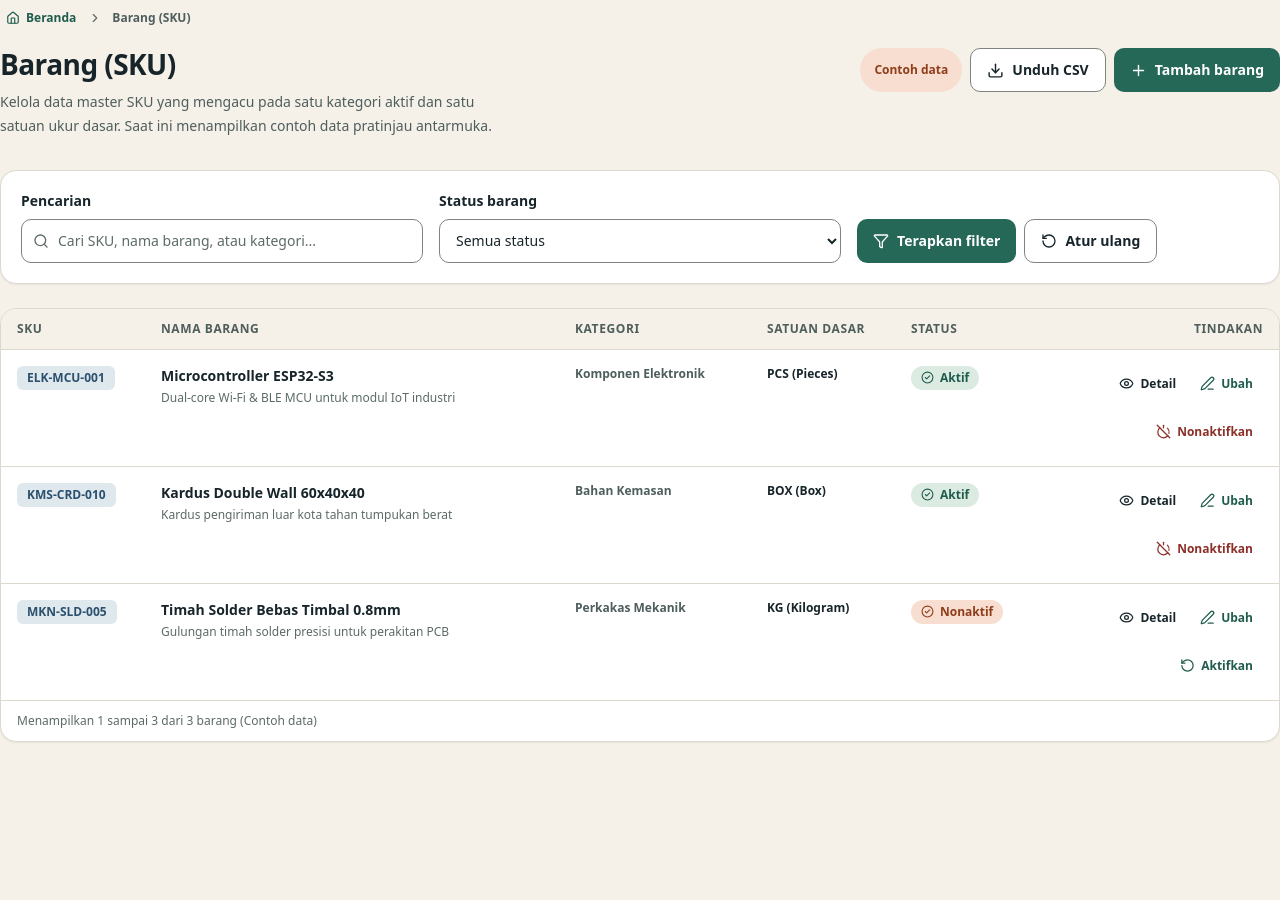
Scenario: StocksPage (Contoh data pratinjau Barang SKU) › merender contoh data barang SKU, mendukung detail, tambah, dan filter
The width and height of the screenshot is (1280, 900).
Check: the text "Contoh data" is shown, box [860,48,962,92]
Check: the text "Microcontroller ESP32-S3" is shown, box [161,366,334,385]
Click the button named "Lihat detail barang Microcontroller ESP32-S3" at point(1148, 384), box [1109,362,1186,406]
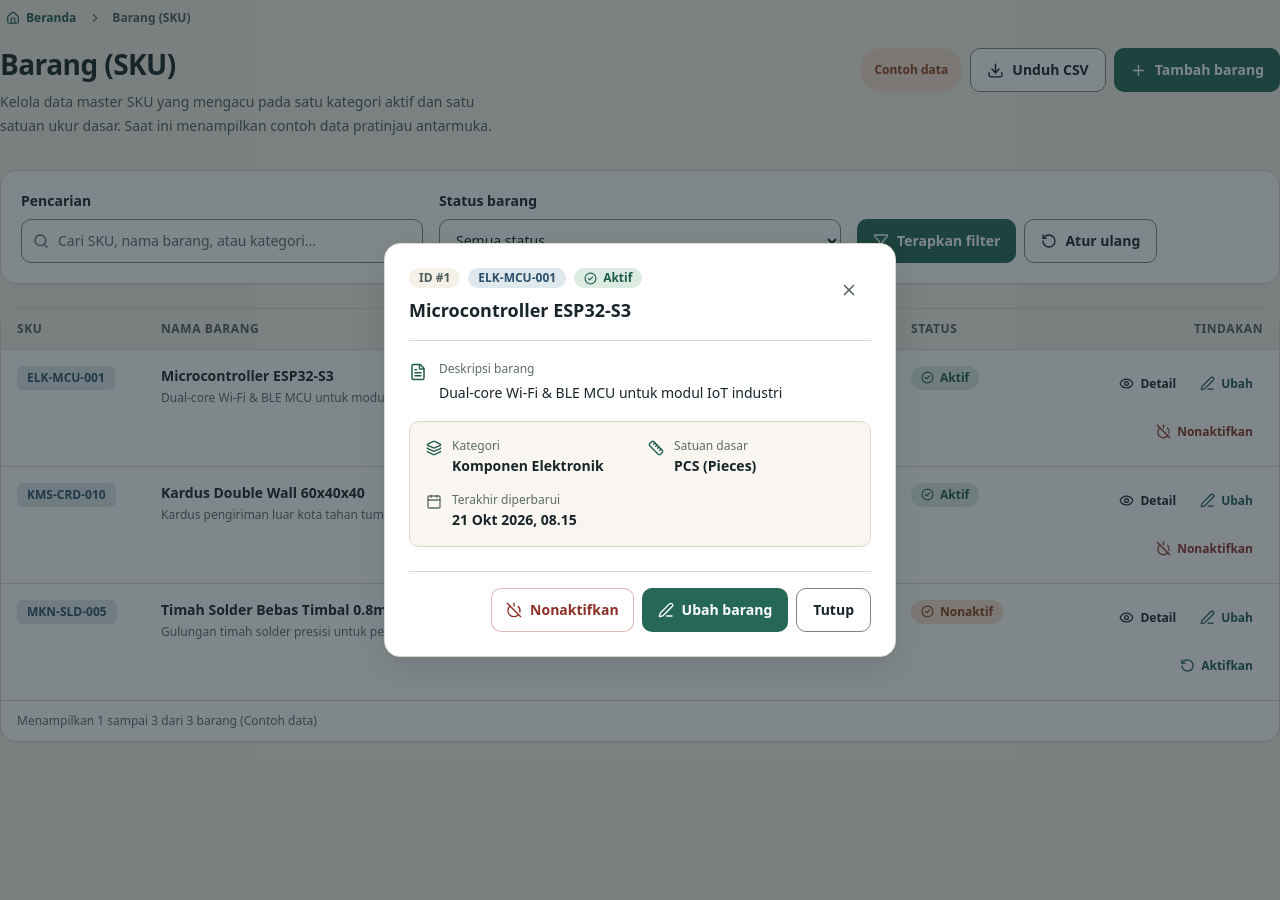
Check: the dialog "Microcontroller ESP32-S3" is shown, box [384,243,896,657]
Click the button named "Tutup detail barang" at point(849, 290), box [827,268,871,312]
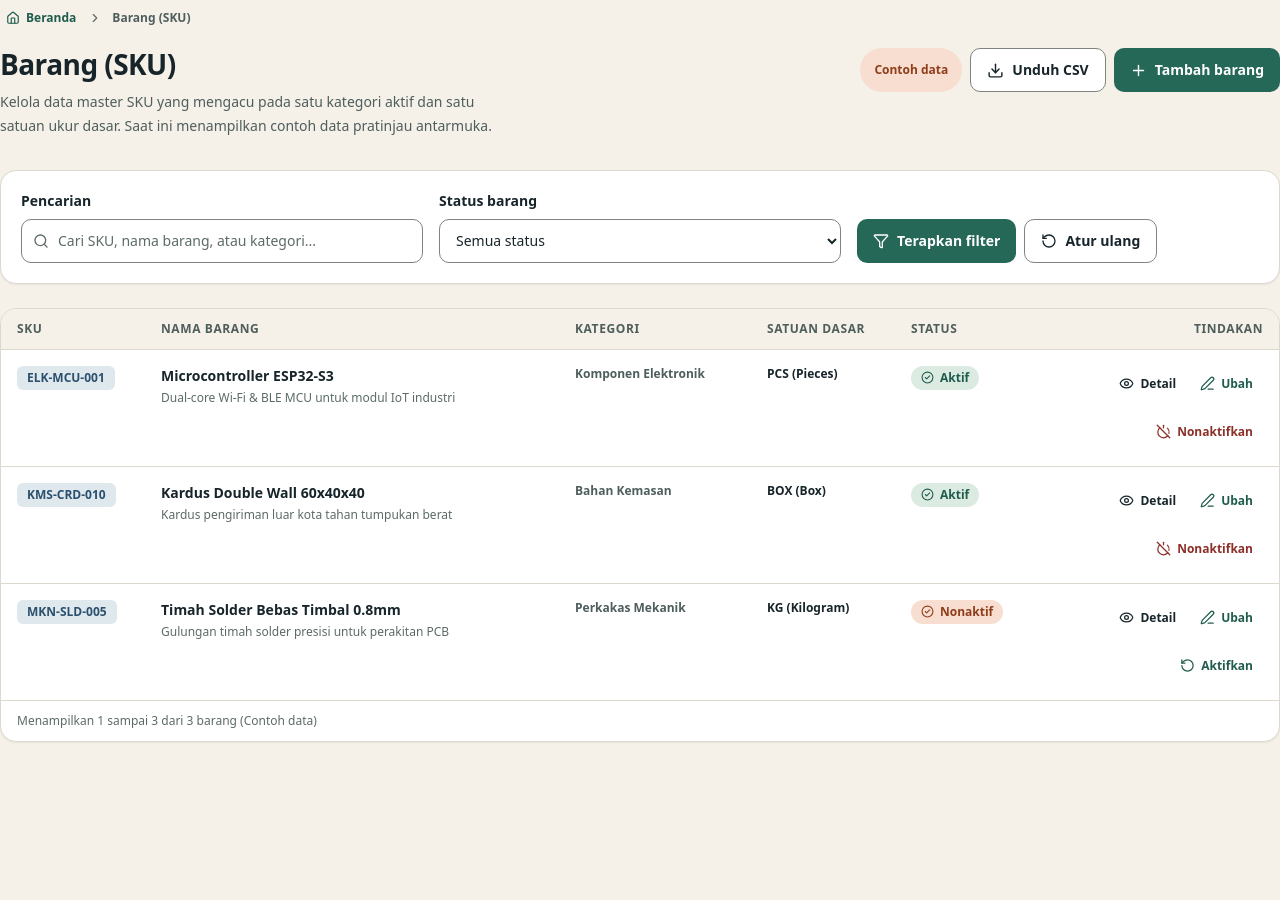
Click the button "Tambah barang" at point(1197, 70), box [1114,48,1279,92]
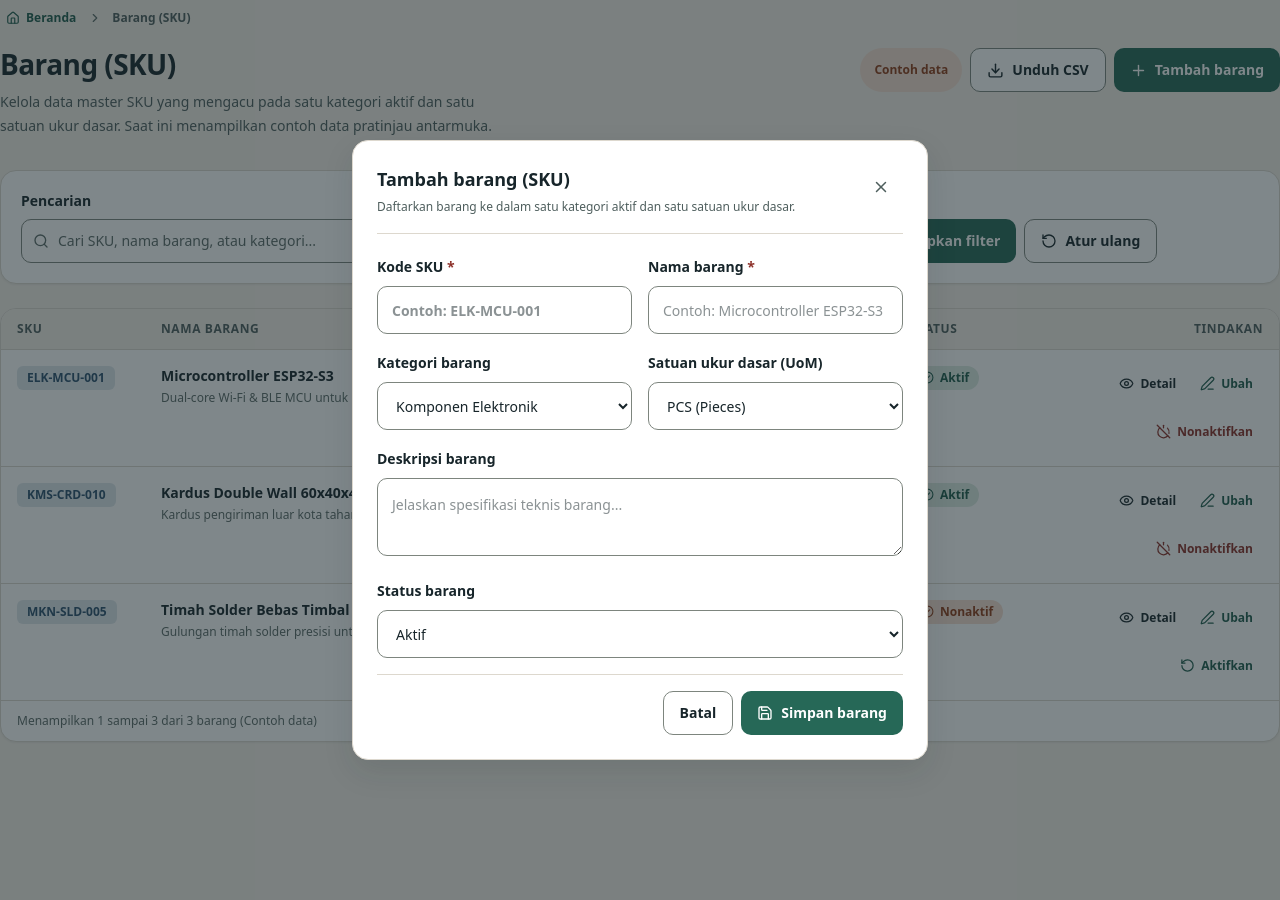
Type "ELK-RES-10K" into the field labelled "Kode SKU *" at point(504, 310), box [377,286,632,334]
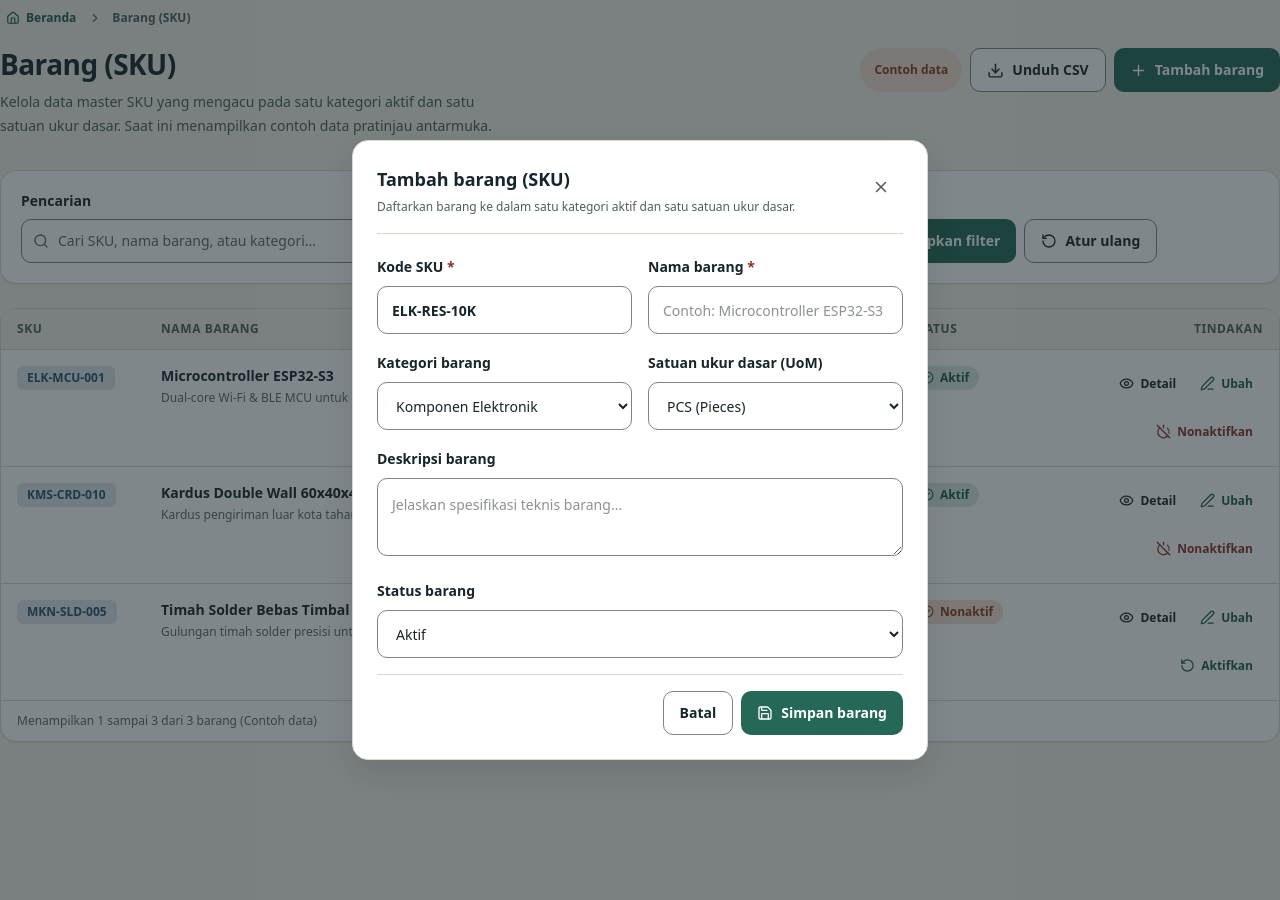
Type "Resistor 10K Ohm" into the field labelled "Nama barang *" at point(776, 310), box [648,286,903,334]
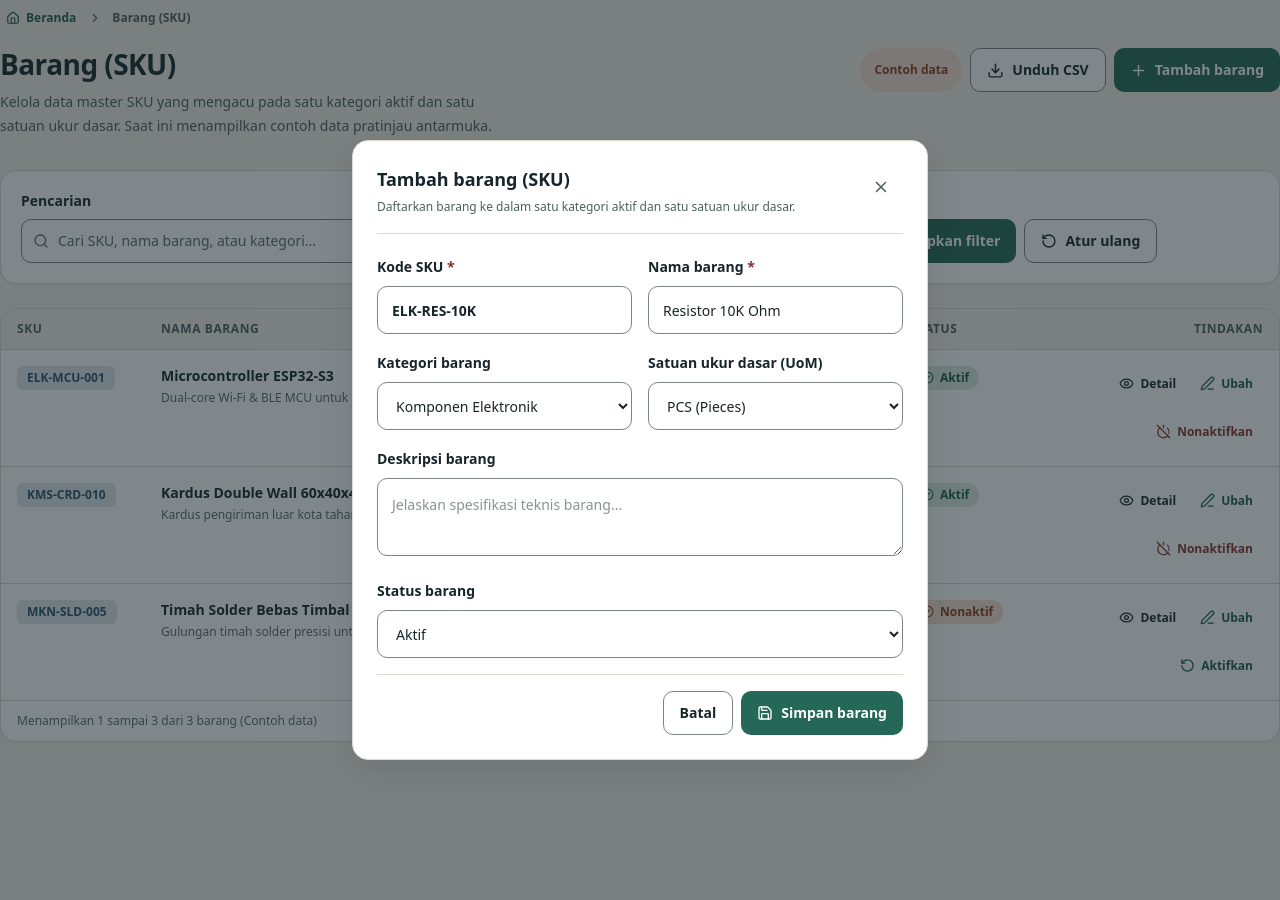
Click the button "Simpan barang" at point(822, 713), box [741,691,903,735]
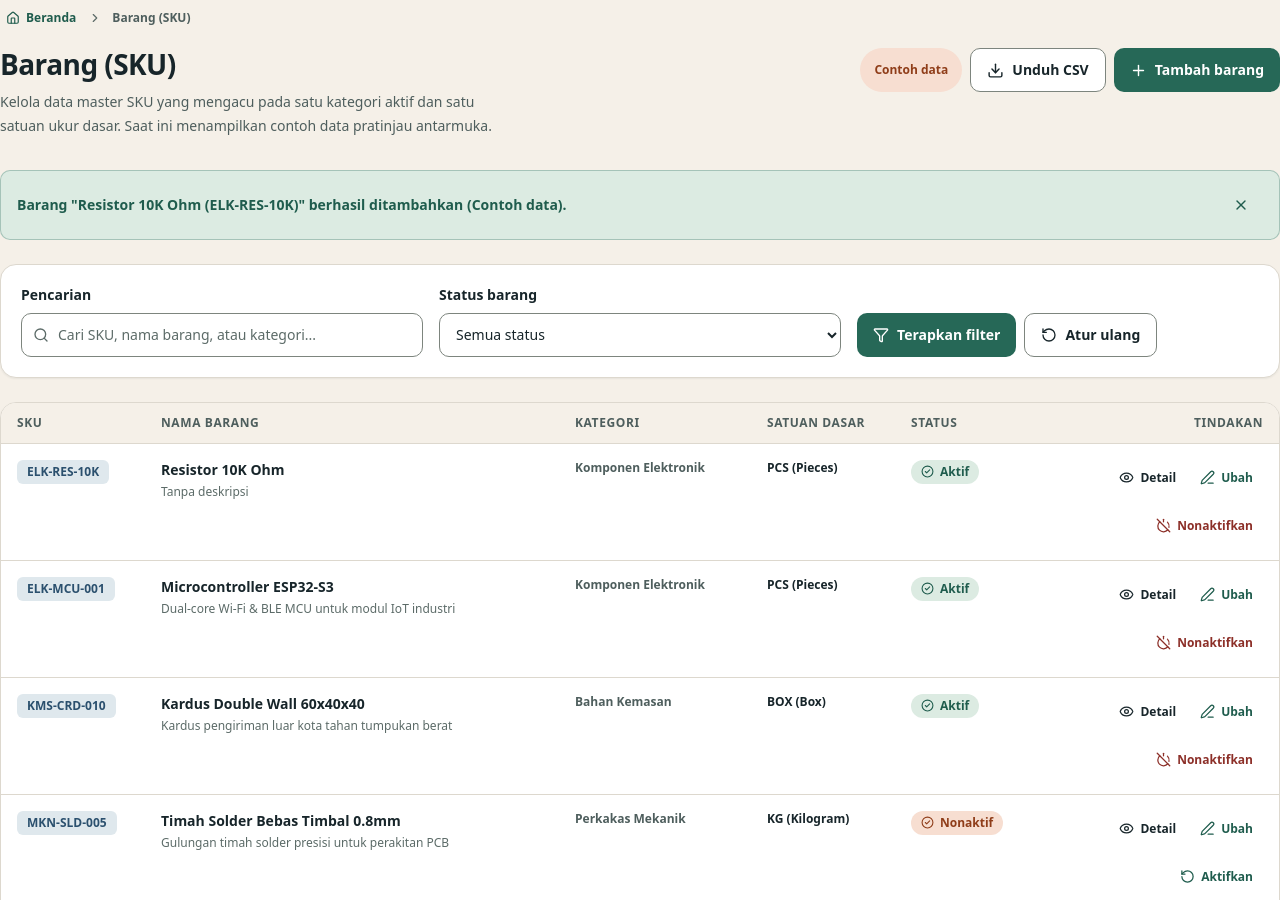
Check: the text "Resistor 10K Ohm" is shown, box [161,460,284,479]
